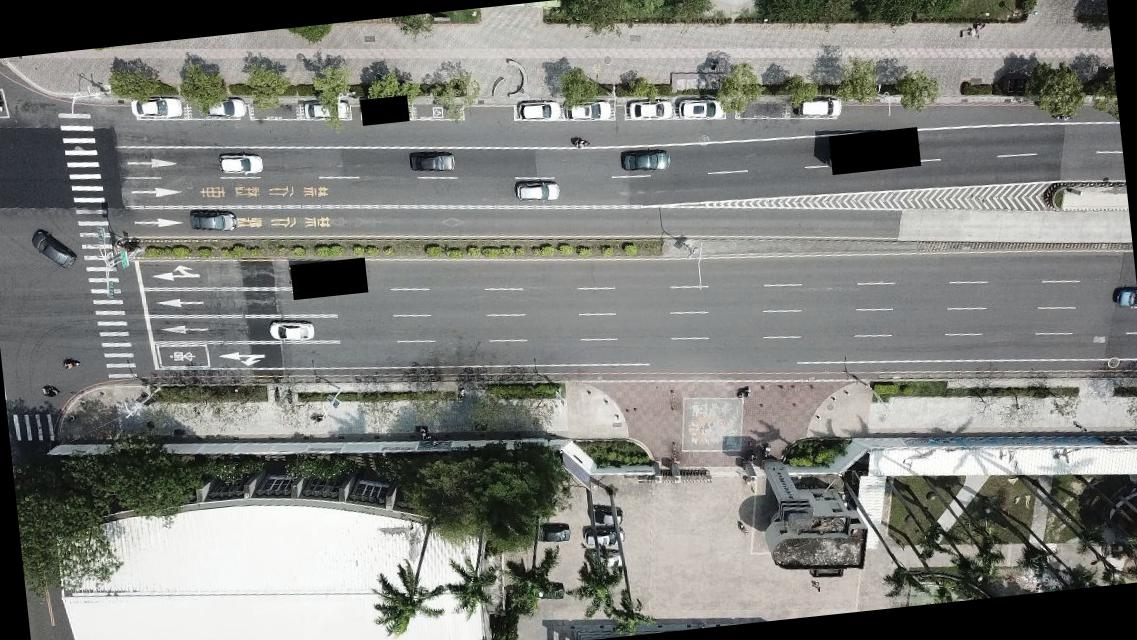vehicle: (30, 225, 75, 272), (618, 144, 672, 174), (266, 316, 316, 346), (130, 95, 181, 124), (301, 96, 350, 126), (511, 178, 560, 206), (676, 95, 724, 122), (622, 99, 671, 124), (201, 96, 248, 122), (579, 522, 624, 548), (408, 152, 457, 175), (188, 212, 236, 235), (566, 98, 612, 122), (532, 520, 574, 546), (798, 96, 840, 120), (588, 502, 624, 529), (223, 152, 261, 176), (518, 100, 562, 120), (588, 548, 624, 572), (530, 581, 564, 600)
